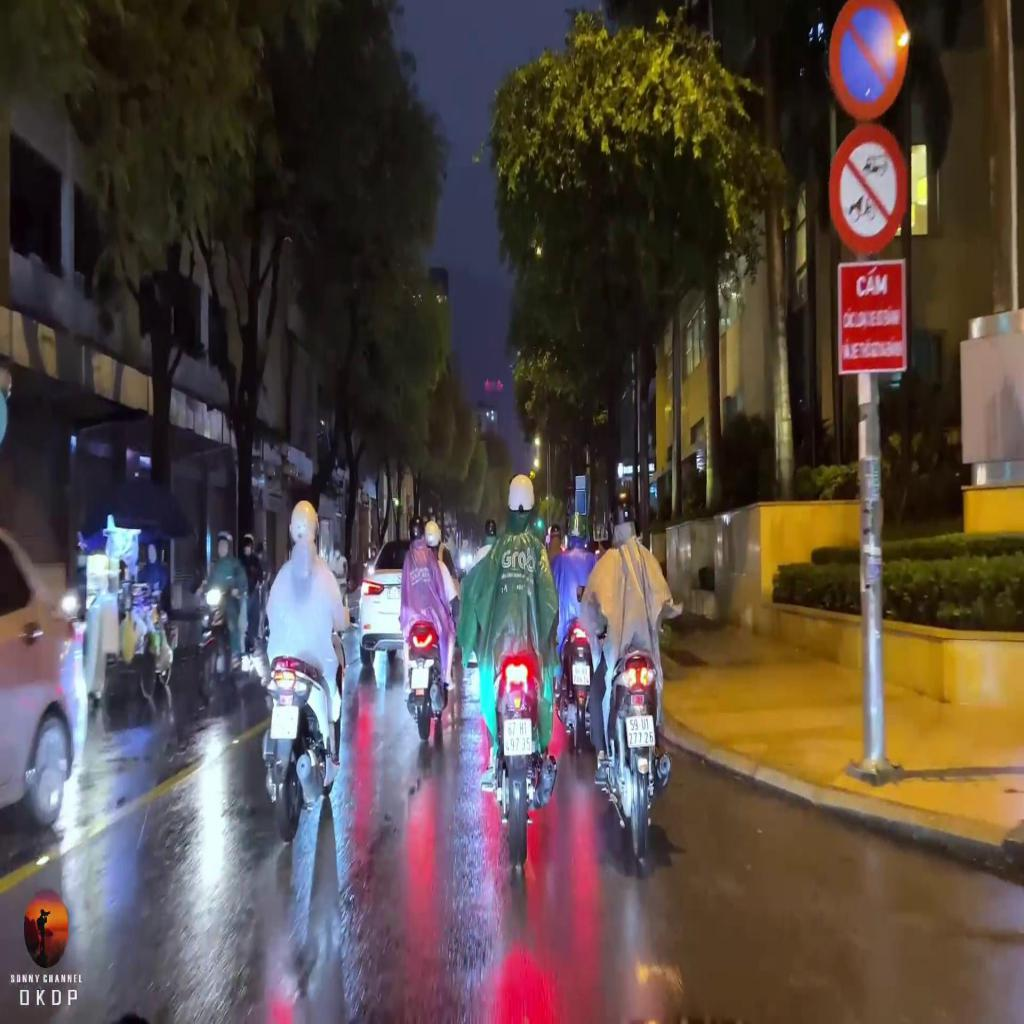cam_cac_loai_xe_3_banh: (834, 131, 903, 246)
cam_do_xe: (836, 0, 904, 116)
